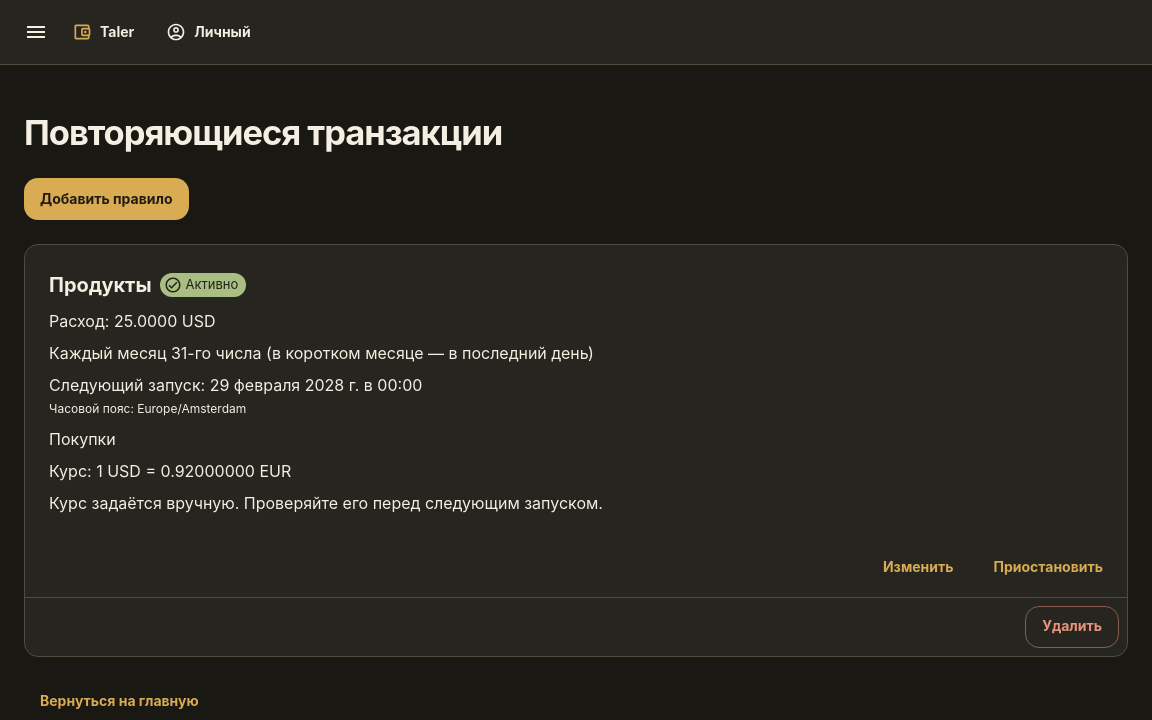
RecurringTransactionsPage › edits a rule and pauses or resumes it through PATCH
Click the button with aria-label "Изменить правило Продукты" at (918, 568), box left=867, top=547, right=970, bottom=589
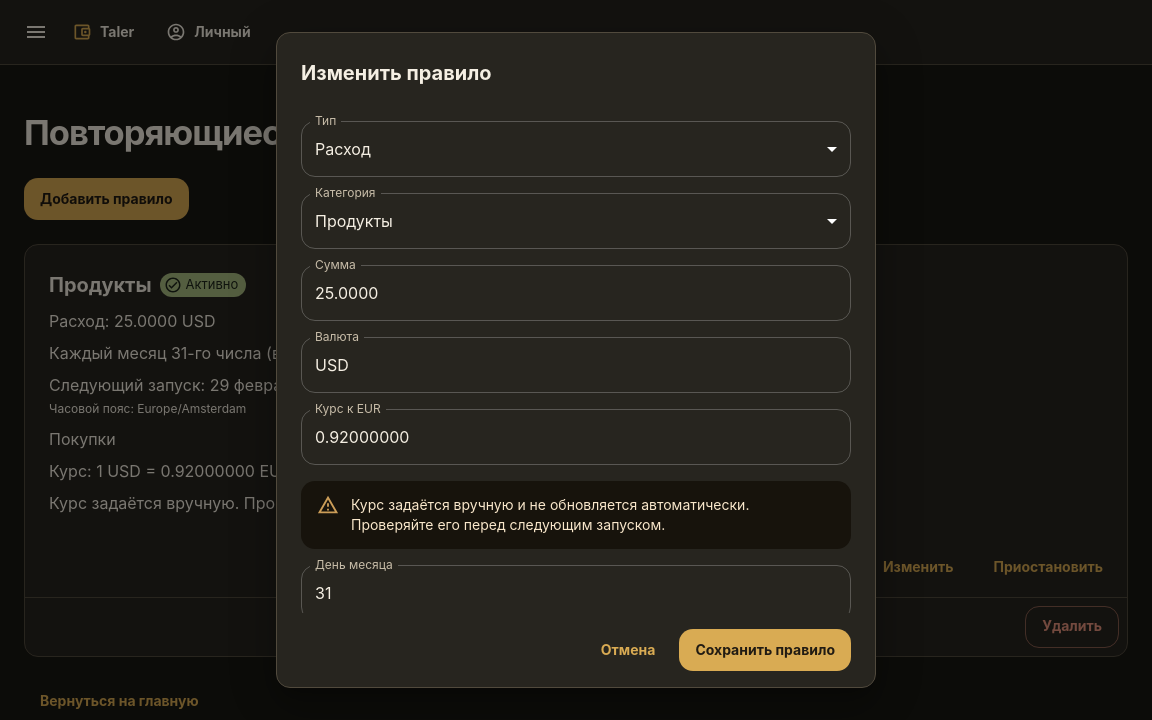
Replace the text in the field labelled "Сумма" with "30" at (576, 293), box left=301, top=265, right=851, bottom=321
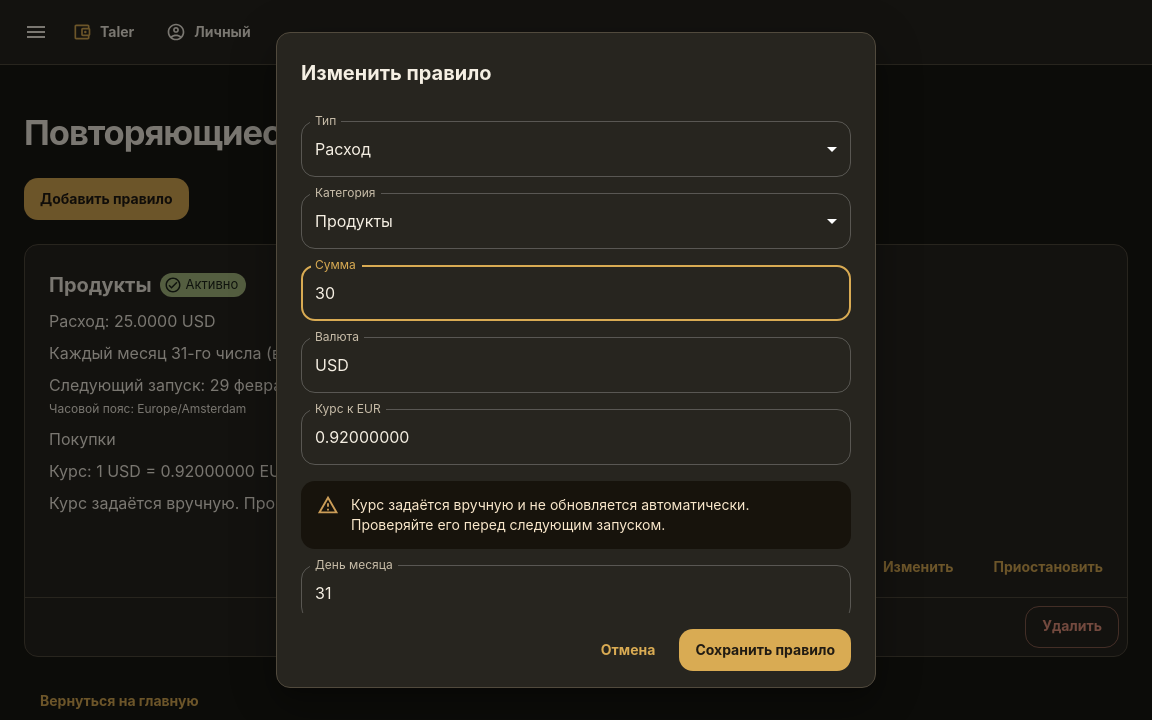
Click the button "Сохранить правило" at (765, 650), box left=679, top=629, right=851, bottom=671
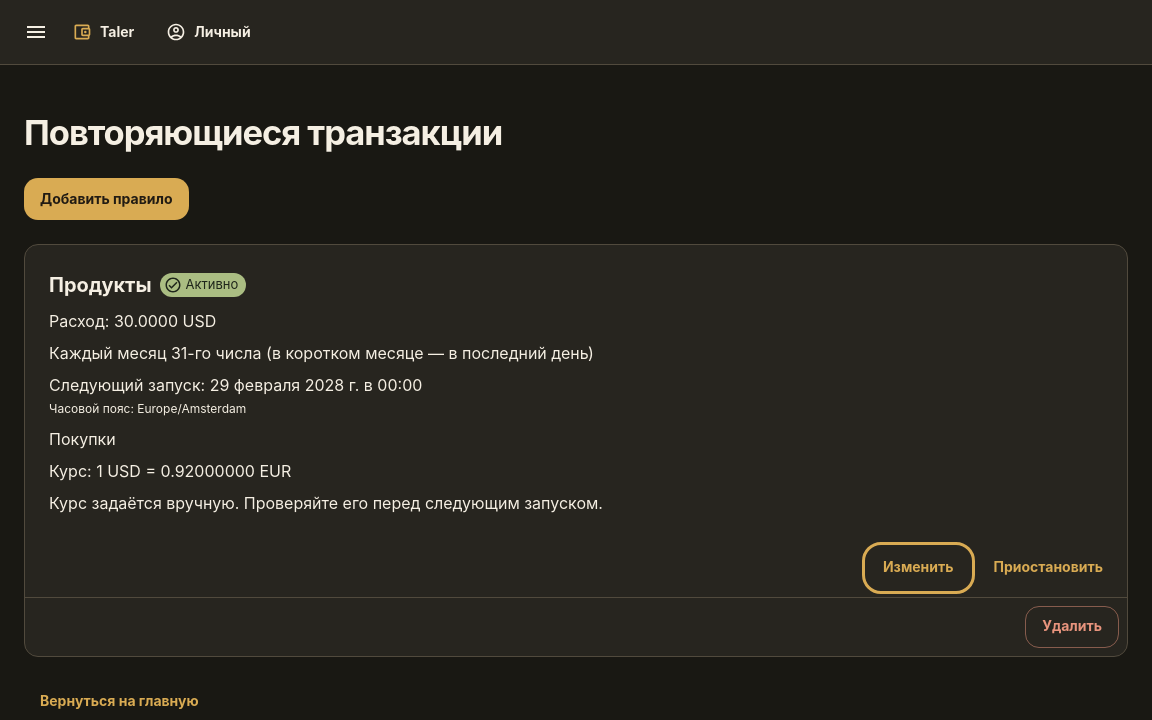
Check: the text "Расход: 30.0000 USD" is shown, box left=49, top=311, right=216, bottom=331
Click the button with aria-label "Приостановить правило Продукты" at (1048, 568), box left=978, top=547, right=1119, bottom=589
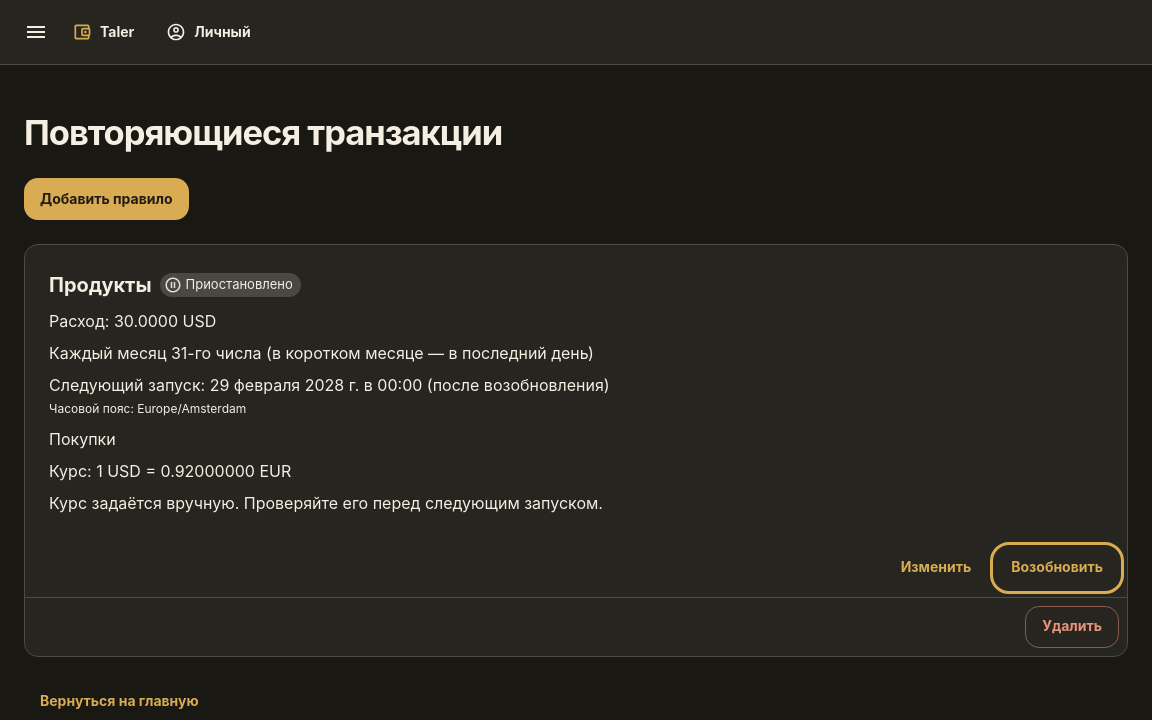
Check: the text "Приостановлено" is shown, box left=178, top=275, right=301, bottom=294
Click the button with aria-label "Возобновить правило Продукты" at (1057, 568), box left=995, top=547, right=1119, bottom=589
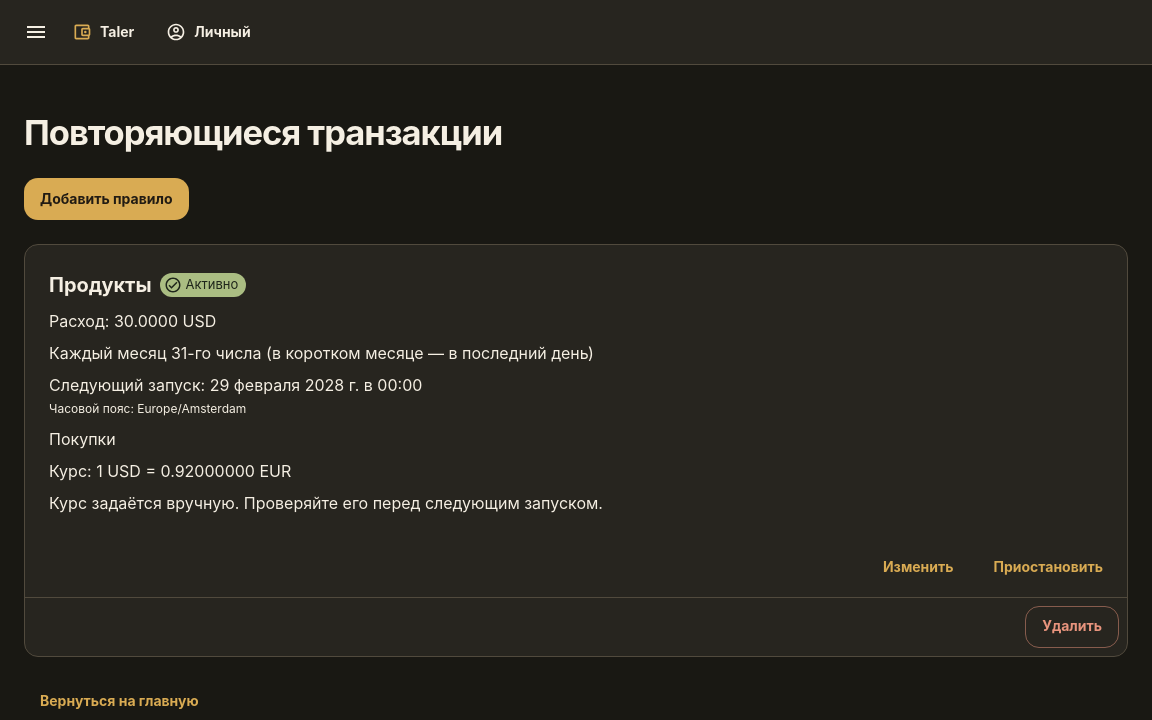
Check: the text "Активно" is shown, box left=186, top=276, right=238, bottom=292
